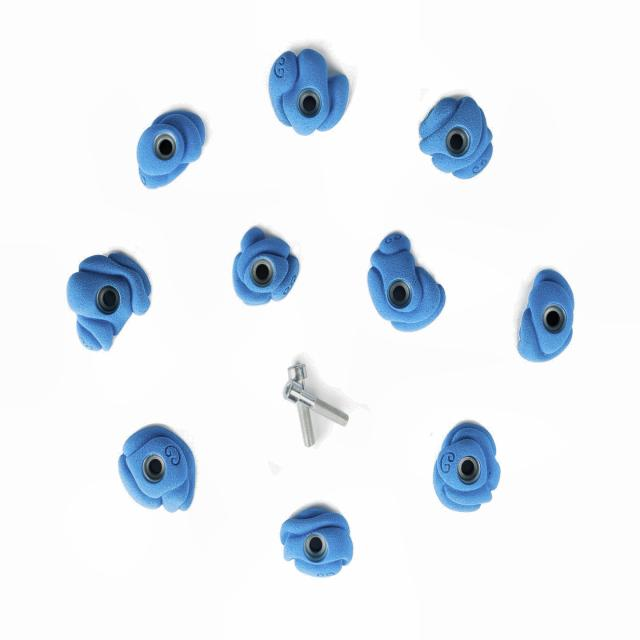Hold: (66, 251, 155, 352), (368, 229, 445, 332), (266, 45, 344, 135), (121, 424, 195, 514), (413, 94, 493, 174), (431, 420, 499, 513), (516, 264, 574, 364), (133, 108, 208, 185), (282, 504, 357, 579), (233, 228, 298, 305)
